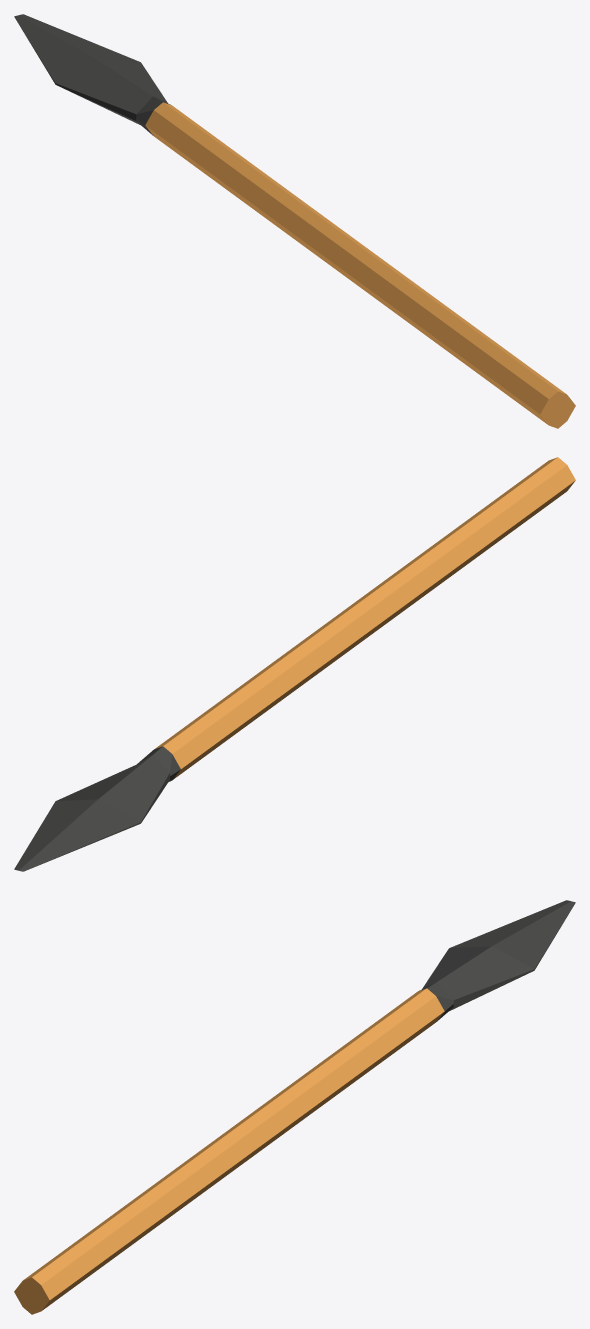
File: iron_lancehead.glb
The picture shows the model from 3 angles, top to bottom: view 1: azimuth 30°, elevation 25°; view 2: azimuth 150°, elevation 25°; view 3: azimuth 330°, elevation 25°; orthographic projection.
Visible parts, largest first — view 1: Cube; view 2: Cube; view 3: Cube.
Part boxes in pixels (left/top/right/bottom): Cube: left=14, top=14, right=575, bottom=428; Cube: left=14, top=457, right=575, bottom=871; Cube: left=14, top=900, right=575, bottom=1314.
Bounding box in the file's own units: 1.28 × 0.5376 × 14.02.
